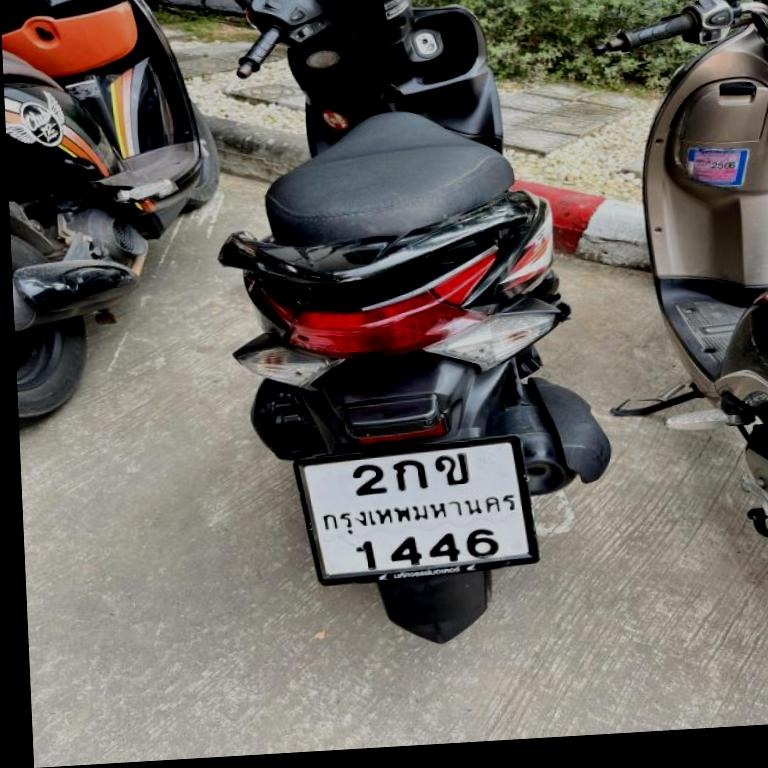license plate: (296, 437, 536, 581)
